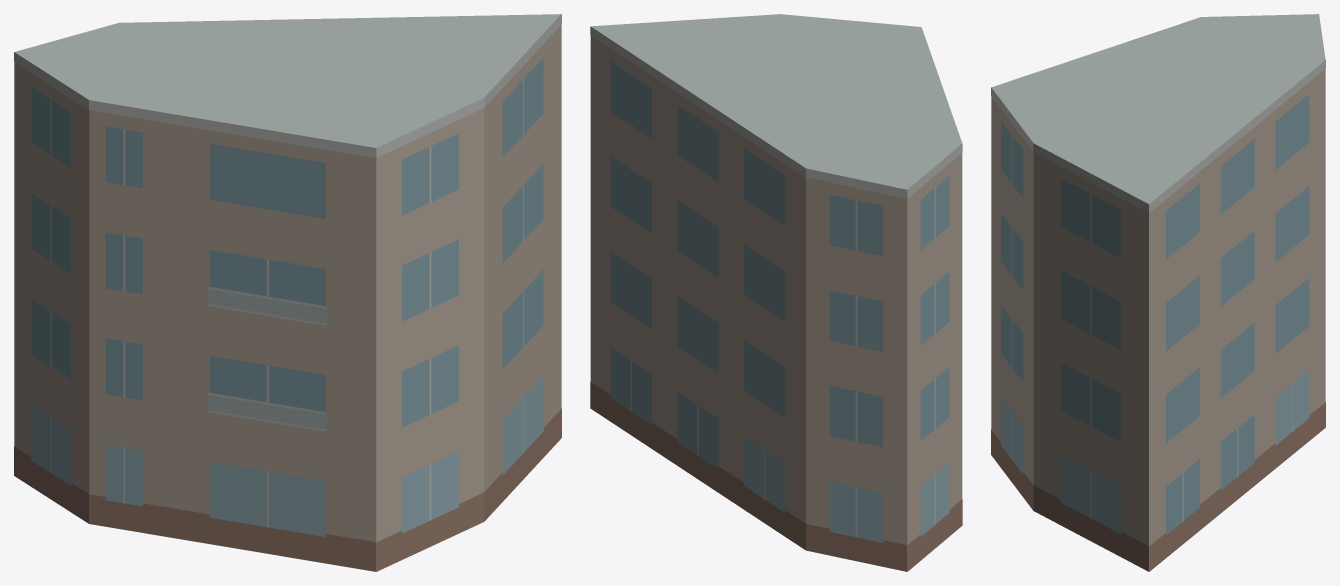
Rendered from survey-upis-32977487.glb.
The picture shows the model from 3 angles, left to right: view 1: azimuth 30°, elevation 25°; view 2: azimuth 150°, elevation 25°; view 3: azimuth 270°, elevation 25°; orthographic projection. The views are drawn at different scales.
Visible parts, largest first — view 1: survey-upis-32977487.tmp; view 2: survey-upis-32977487.tmp; view 3: survey-upis-32977487.tmp.
Part boxes in pixels (x1,y1,x2,y2): survey-upis-32977487.tmp: (14,14,561,571); survey-upis-32977487.tmp: (590,14,962,571); survey-upis-32977487.tmp: (991,14,1325,571).
Bounding box in the file's own units: 11.44 × 10.3 × 8.5.
